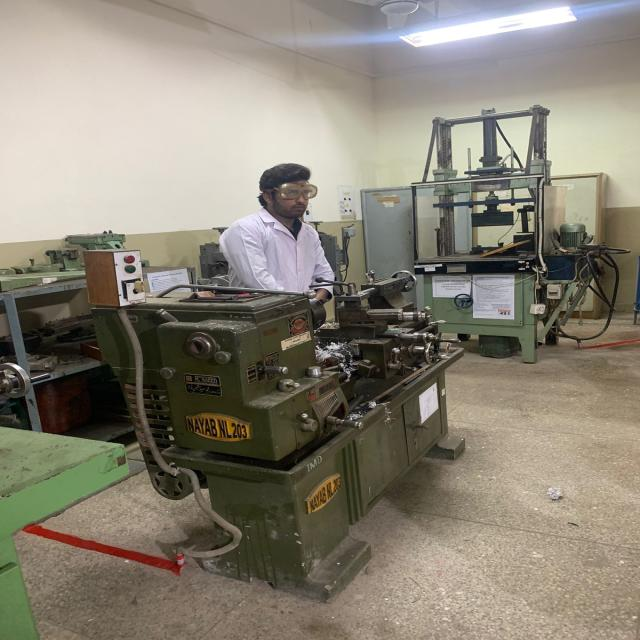googles: (277, 181, 320, 201)
labcoat: (215, 205, 340, 299)
